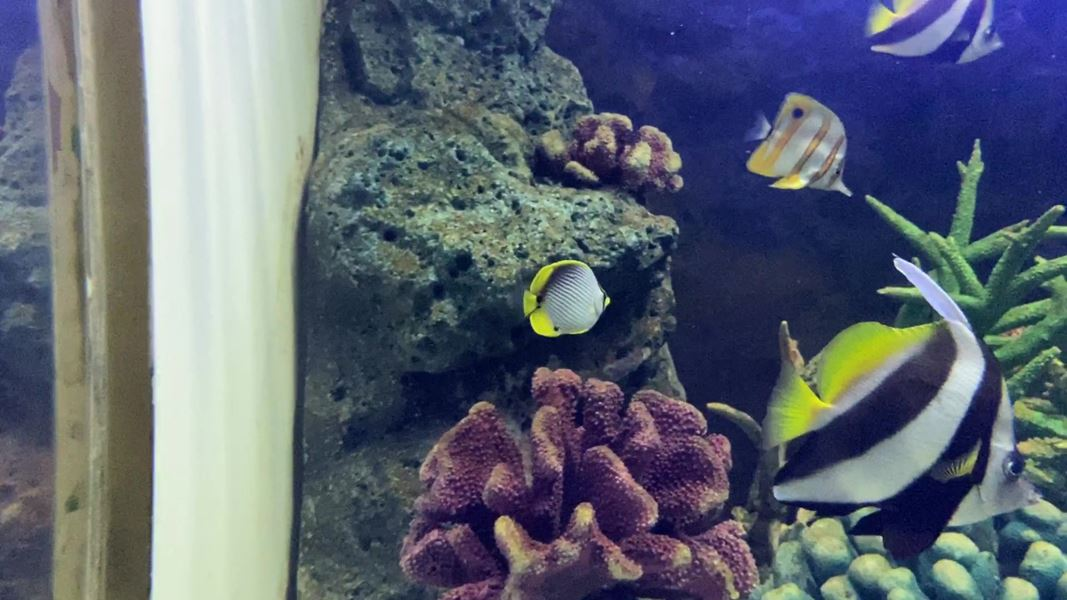Black-backed butterflyfish: (503, 250, 619, 345)
